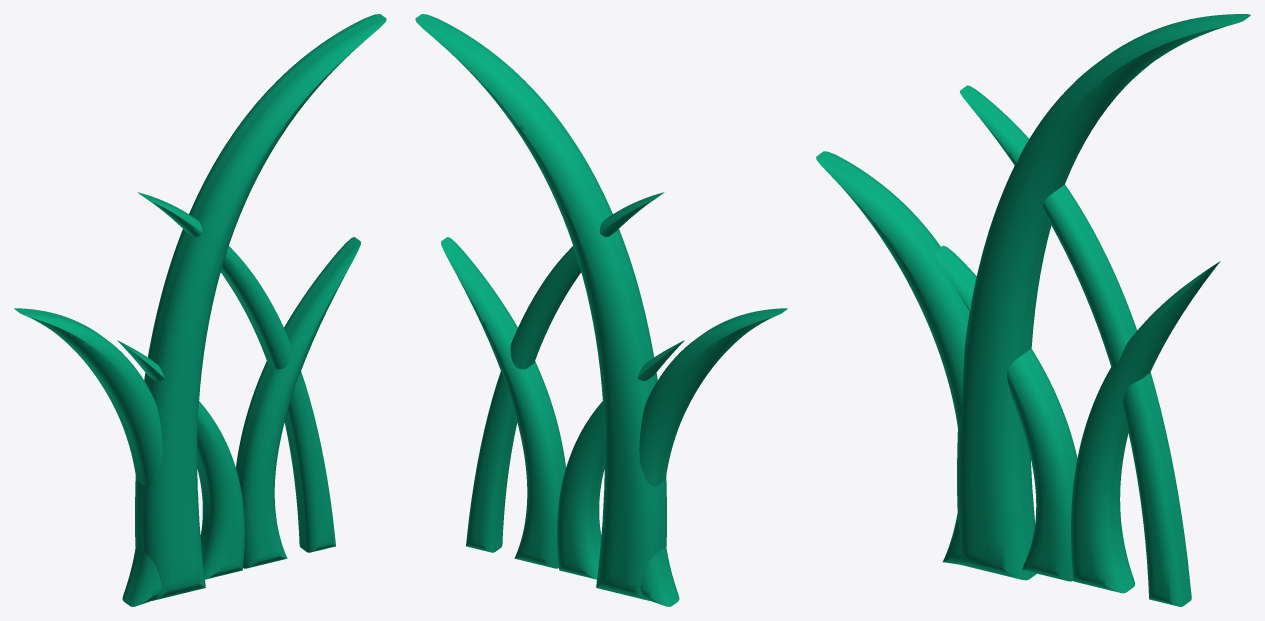
File: Resurs 6.gltf
The picture shows the model from 3 angles, left to right: view 1: azimuth 30°, elevation 25°; view 2: azimuth 150°, elevation 25°; view 3: azimuth 330°, elevation 25°; orthographic projection. The views are drawn at different scales.
Bounding box in the file's own units: 0.0749 × 0.1026 × 0.00973.
